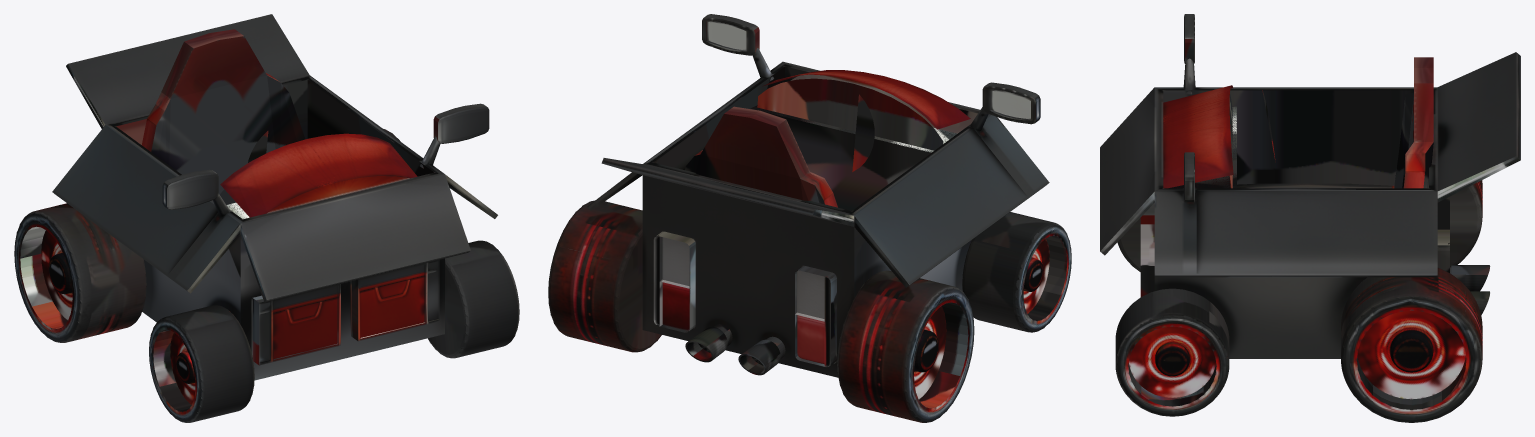
The picture shows the model from 3 angles, left to right: view 1: azimuth 30°, elevation 25°; view 2: azimuth 150°, elevation 25°; view 3: azimuth 270°, elevation 25°; orthographic projection. The views are drawn at different scales.
Parts seen in each view (by area): view 1: textured.obj; view 2: textured.obj; view 3: textured.obj.
Boxes of the visible parts, x1=… form: textured.obj: x1=14, y1=14, x2=519, y2=422; textured.obj: x1=548, y1=14, x2=1071, y2=422; textured.obj: x1=1100, y1=14, x2=1520, y2=422.
Bounding box in the file's own units: 1.99 × 1.41 × 2.
